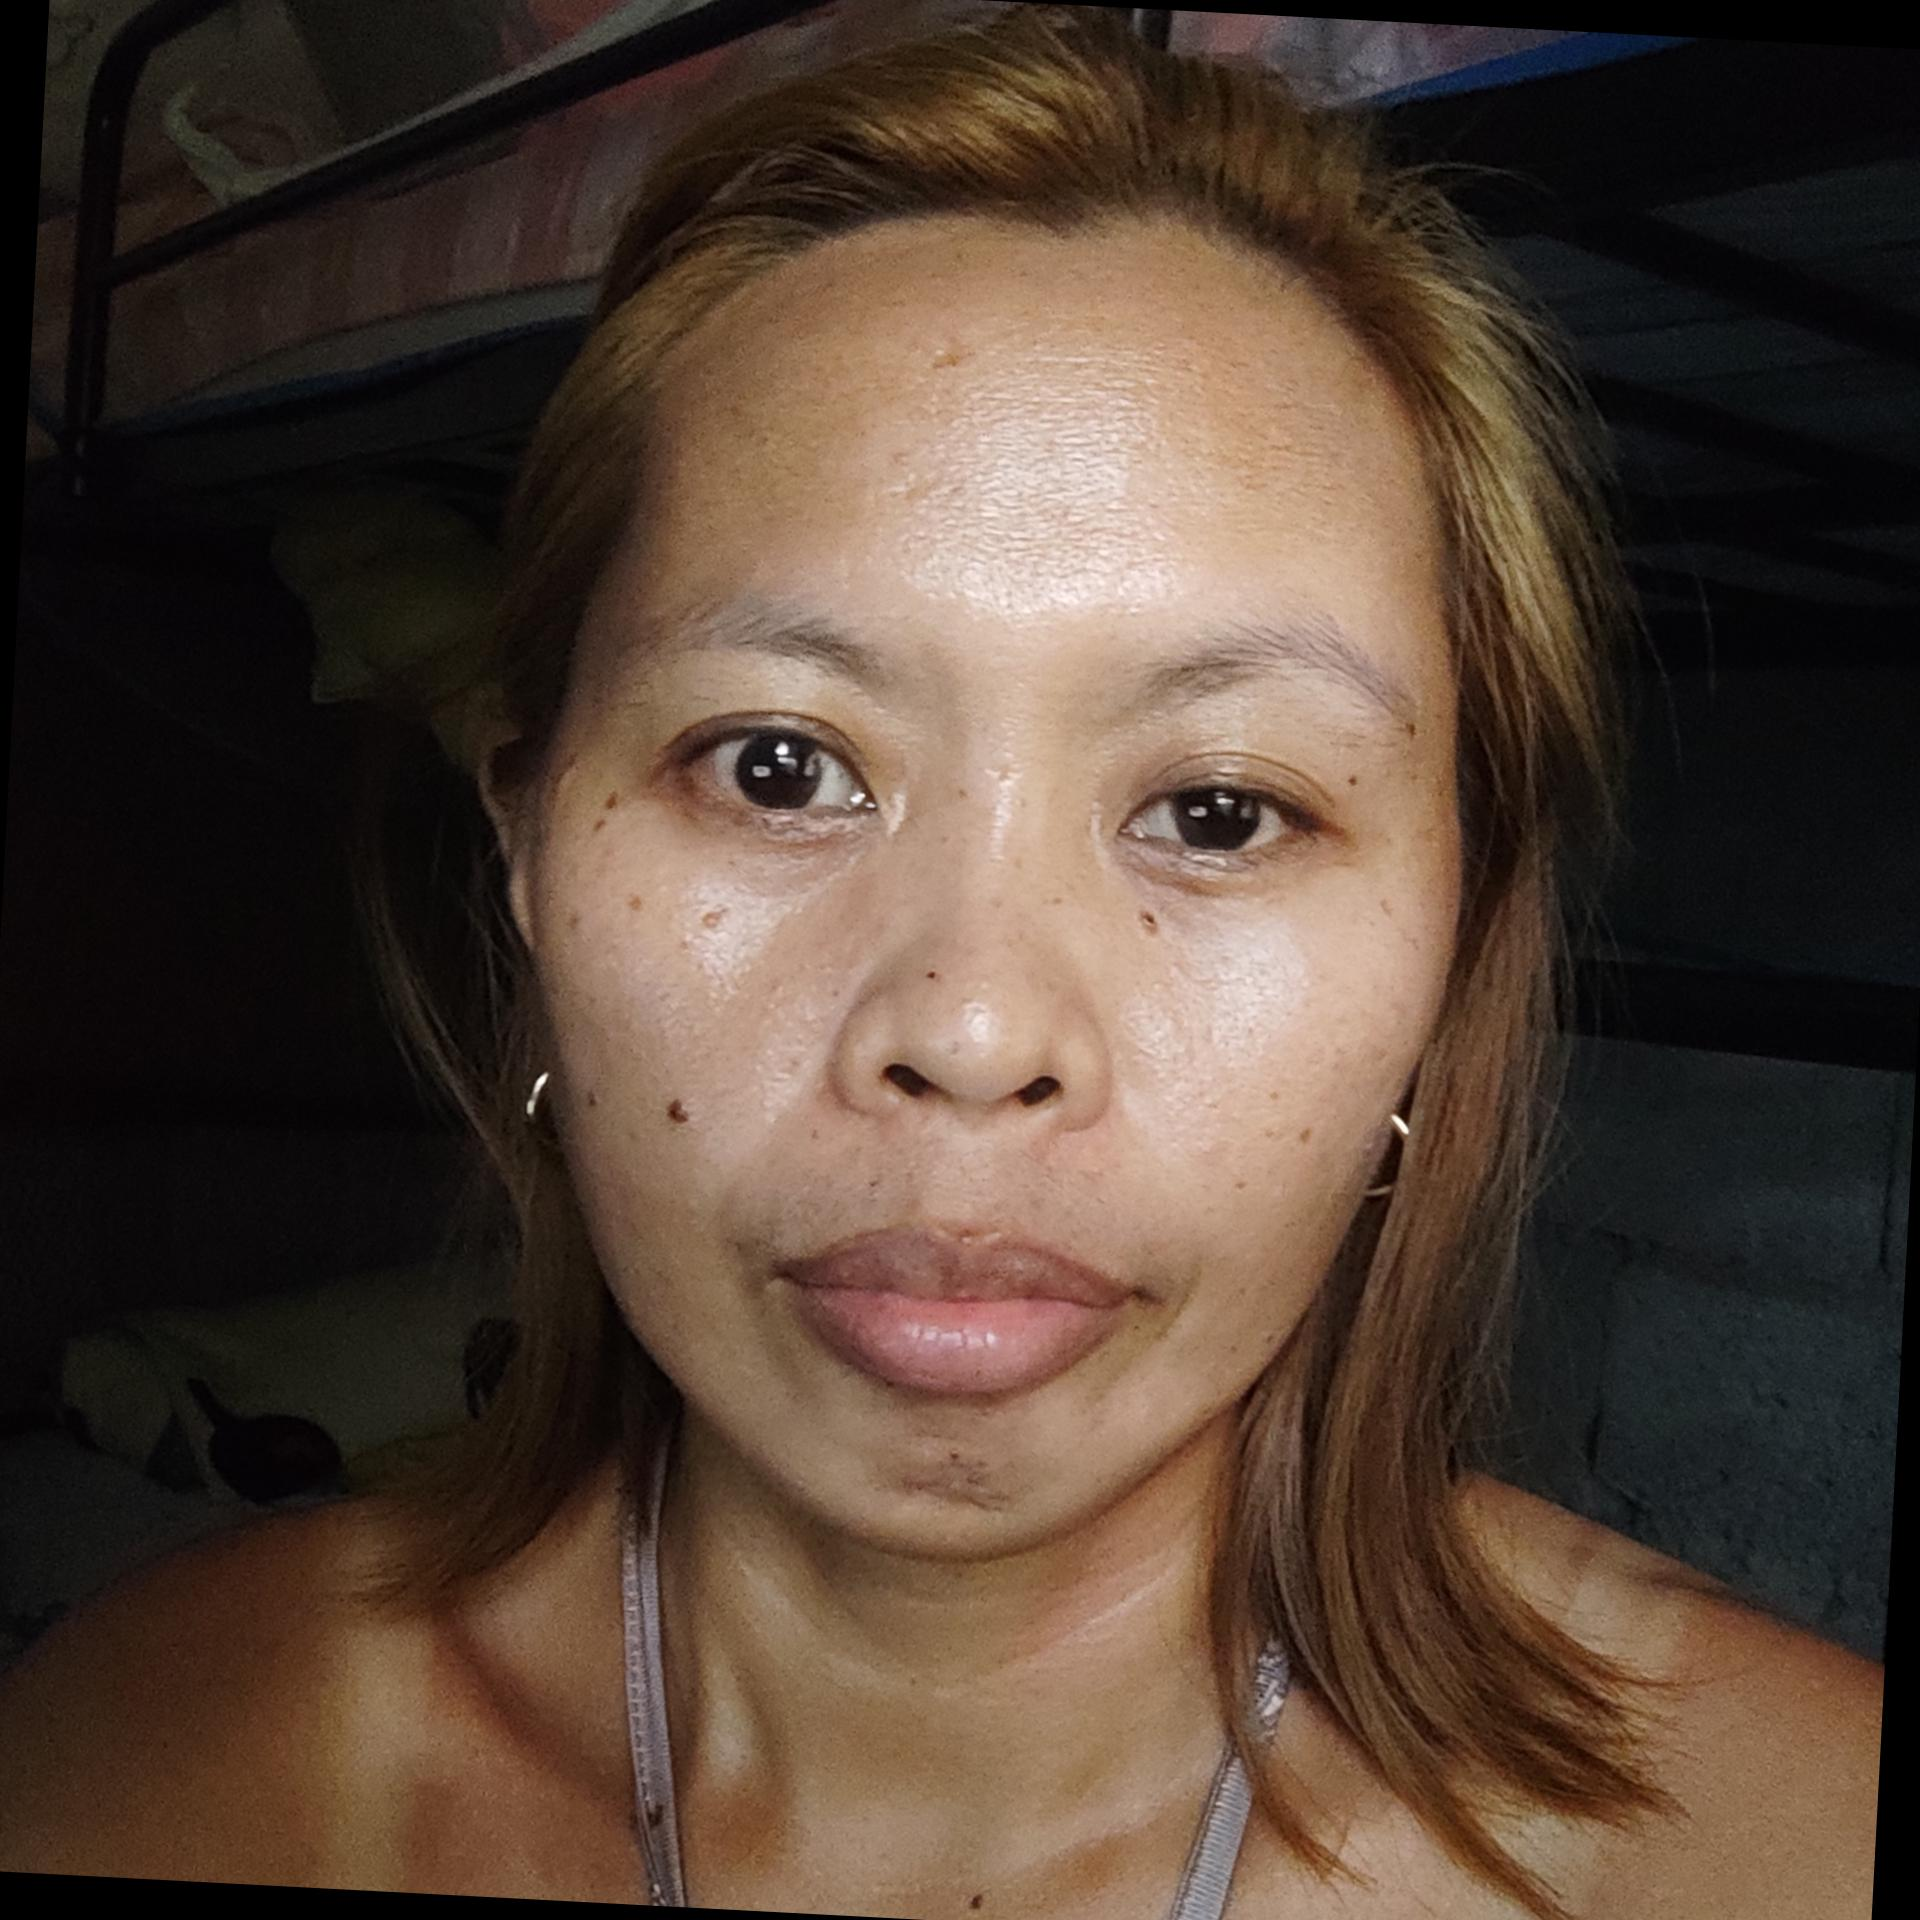Englarged Pores: (900, 445, 1159, 631), (1122, 971, 1298, 1111), (612, 960, 758, 1071)
